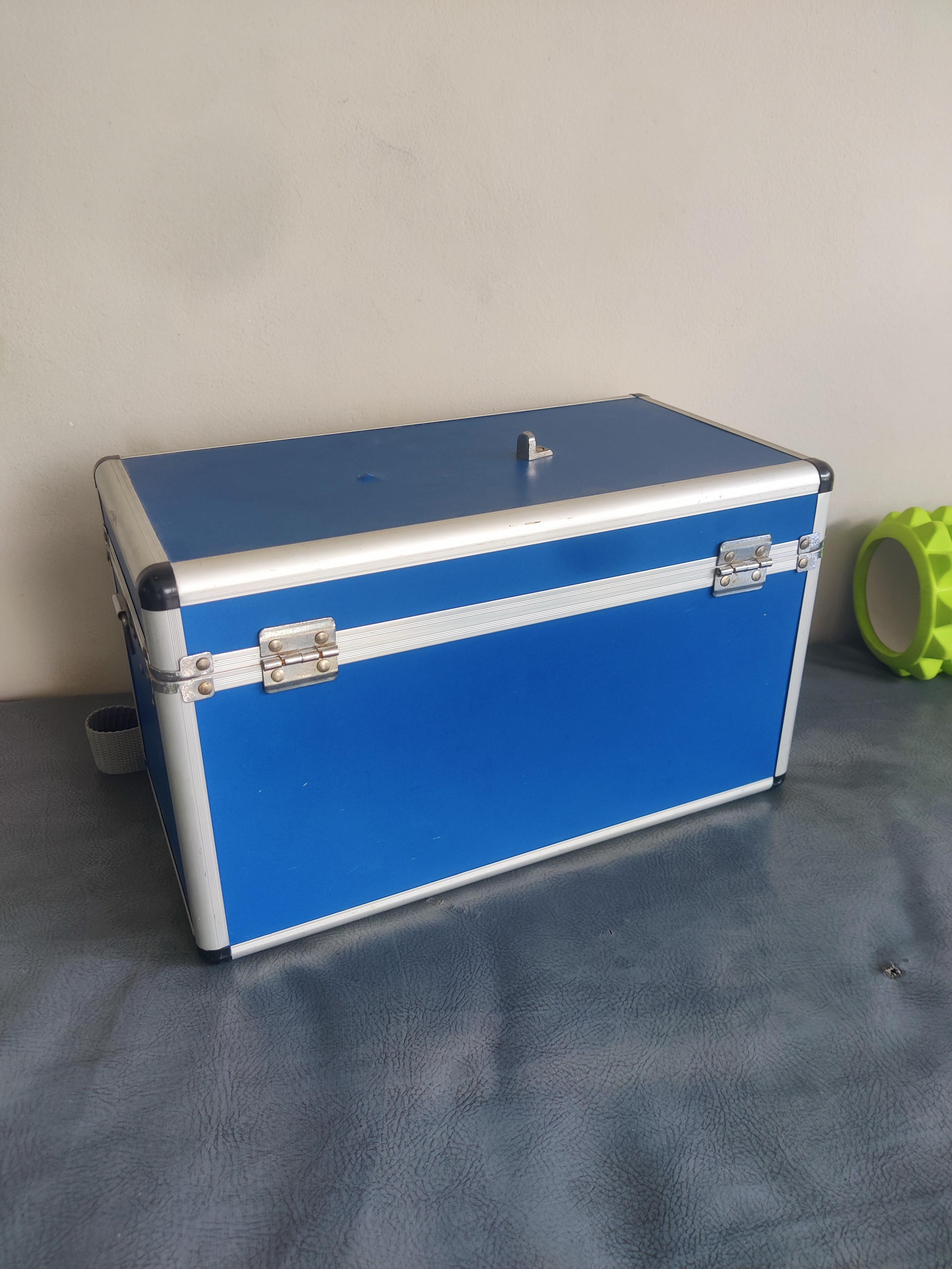FirstAidBox: (73, 385, 854, 1001)
